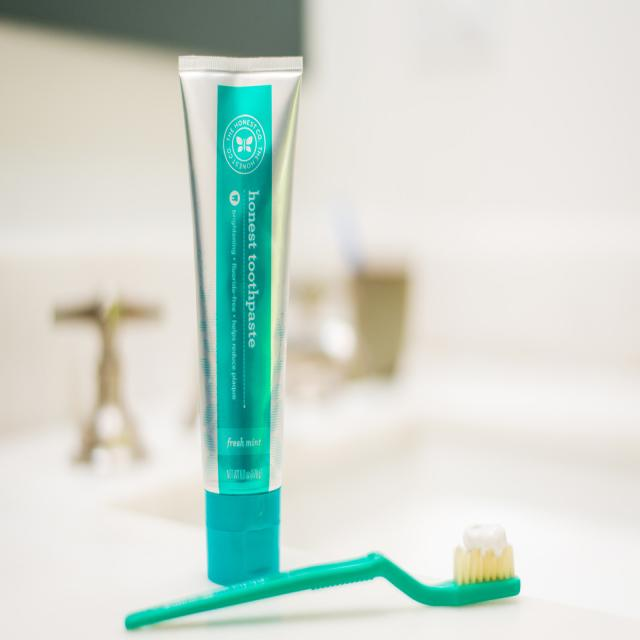toothpaste: (172, 39, 304, 606)
